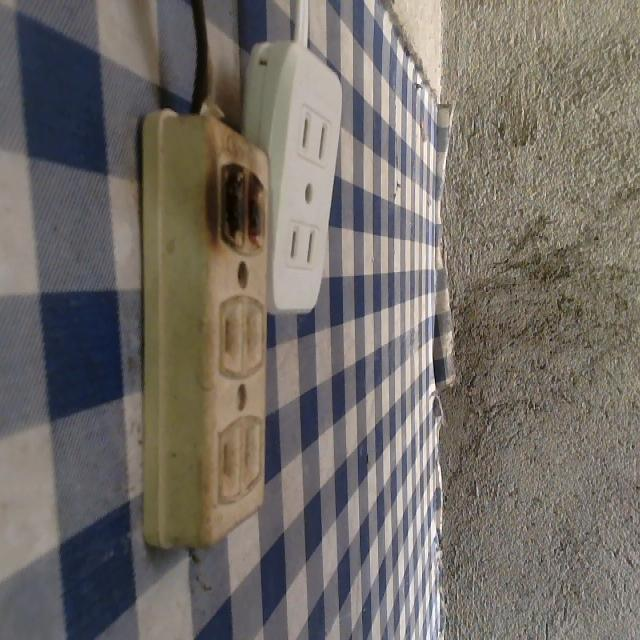-: (195, 141, 270, 264)
